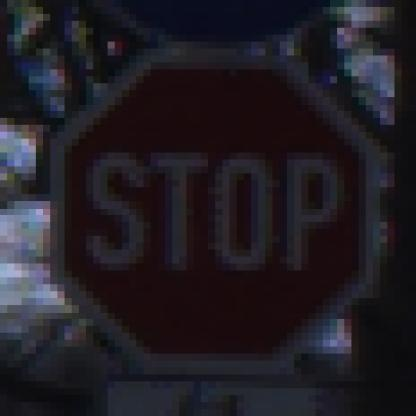Stop: (62, 53, 369, 371)
